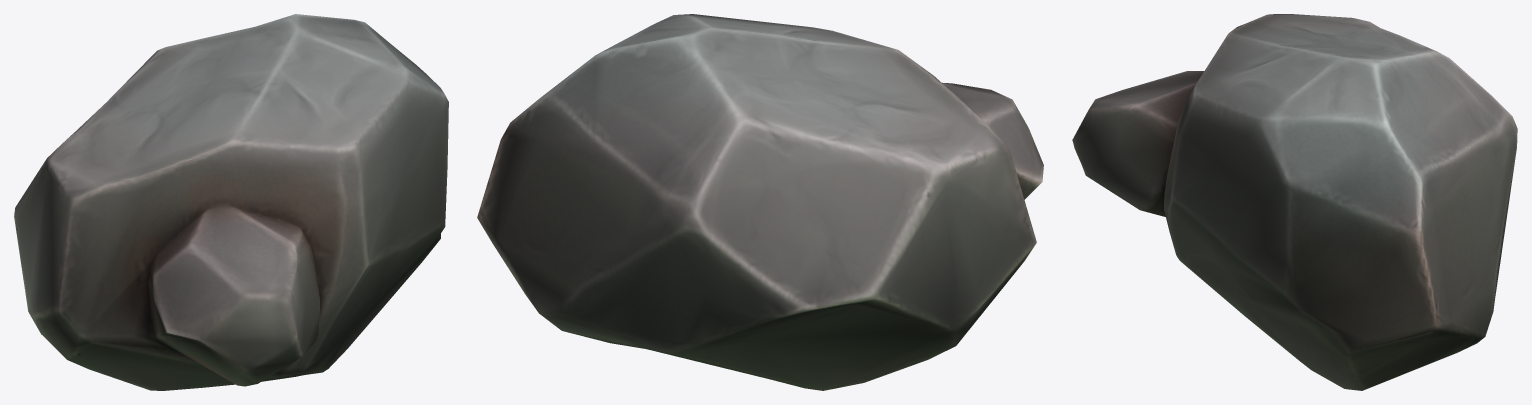
Rendered from Rock 4.fbx.
3 renders of one model, left to right at view 1: azimuth 30°, elevation 25°; view 2: azimuth 150°, elevation 25°; view 3: azimuth 270°, elevation 25°, orthographic. The views are drawn at different scales.
Visible parts, largest first — view 1: rock 4; view 2: rock 4; view 3: rock 4.
Boxes of the visible parts, left/top/right/bottom form: rock 4: left=14, top=14, right=448, bottom=390; rock 4: left=477, top=14, right=1043, bottom=390; rock 4: left=1072, top=14, right=1517, bottom=390.
Bounding box in the file's own units: 2.07 × 1.43 × 1.84.
Materials: 1 (1 with a texture image).
